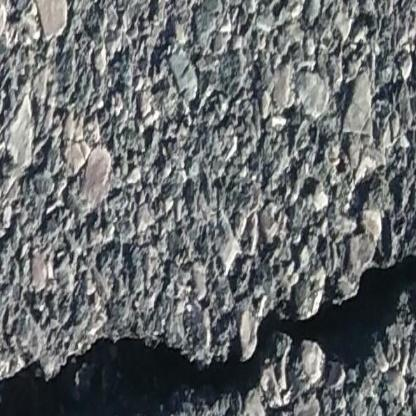Cracks: (0, 248, 416, 416)
